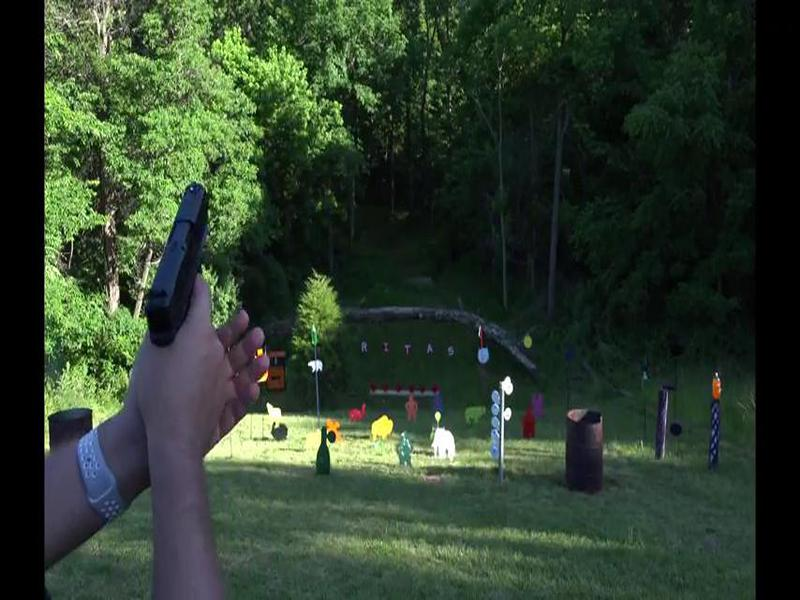Pistola: (148, 166, 228, 343)
